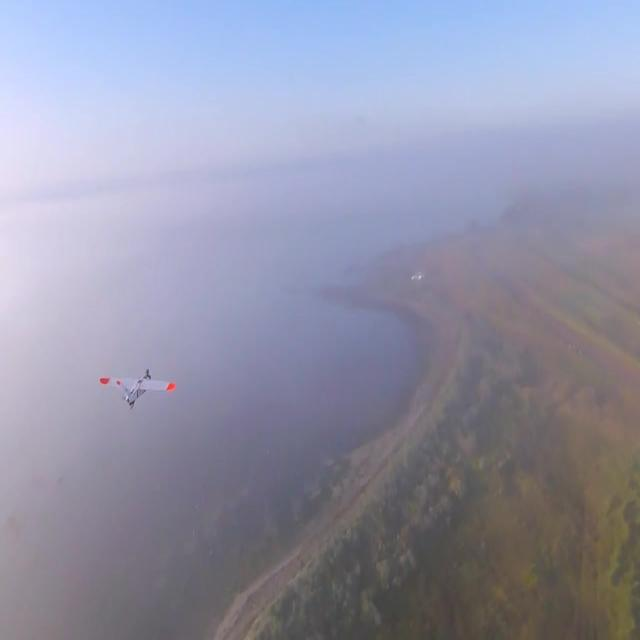iha: (124, 368, 139, 412)
